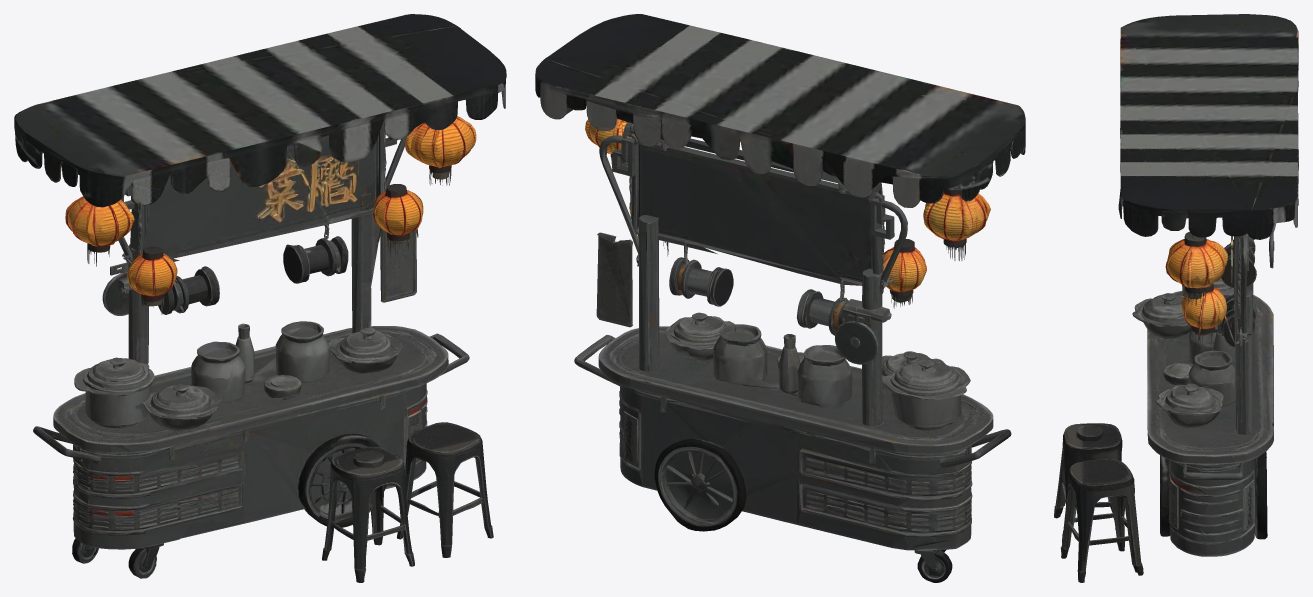
Rendered from mx_noodle_stall.glb.
3 renders of one model, left to right at view 1: azimuth 30°, elevation 25°; view 2: azimuth 150°, elevation 25°; view 3: azimuth 270°, elevation 25°, orthographic. The views are drawn at different scales.
Size of the model in its own units: 1.9 by 1.84 by 1.
Materials: 1 (1 with a texture image).
